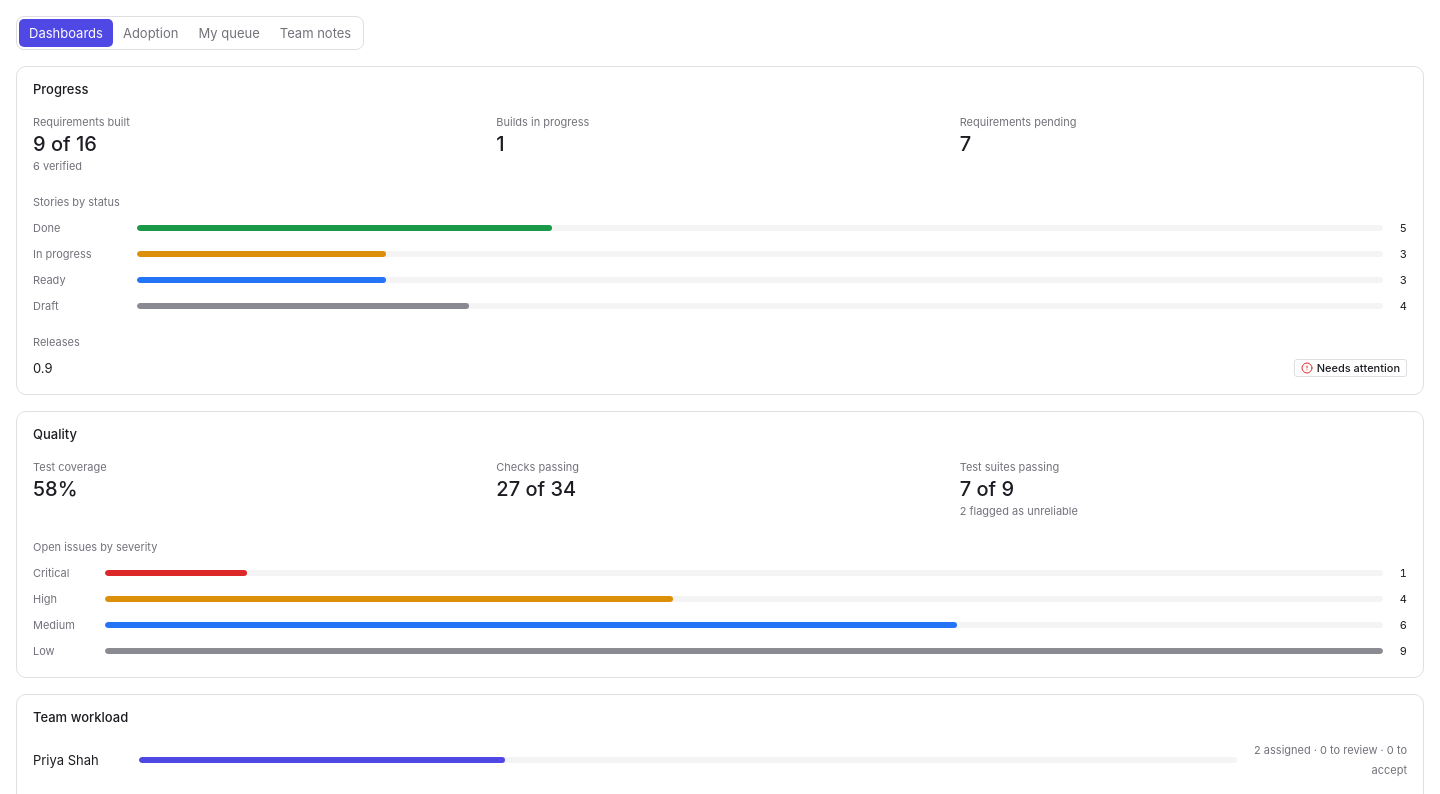
Test: InsightsSection › Team notes tab lists coordination notes
Click the tab "Team notes".
click(316, 33)  # box [270,19,361,47]
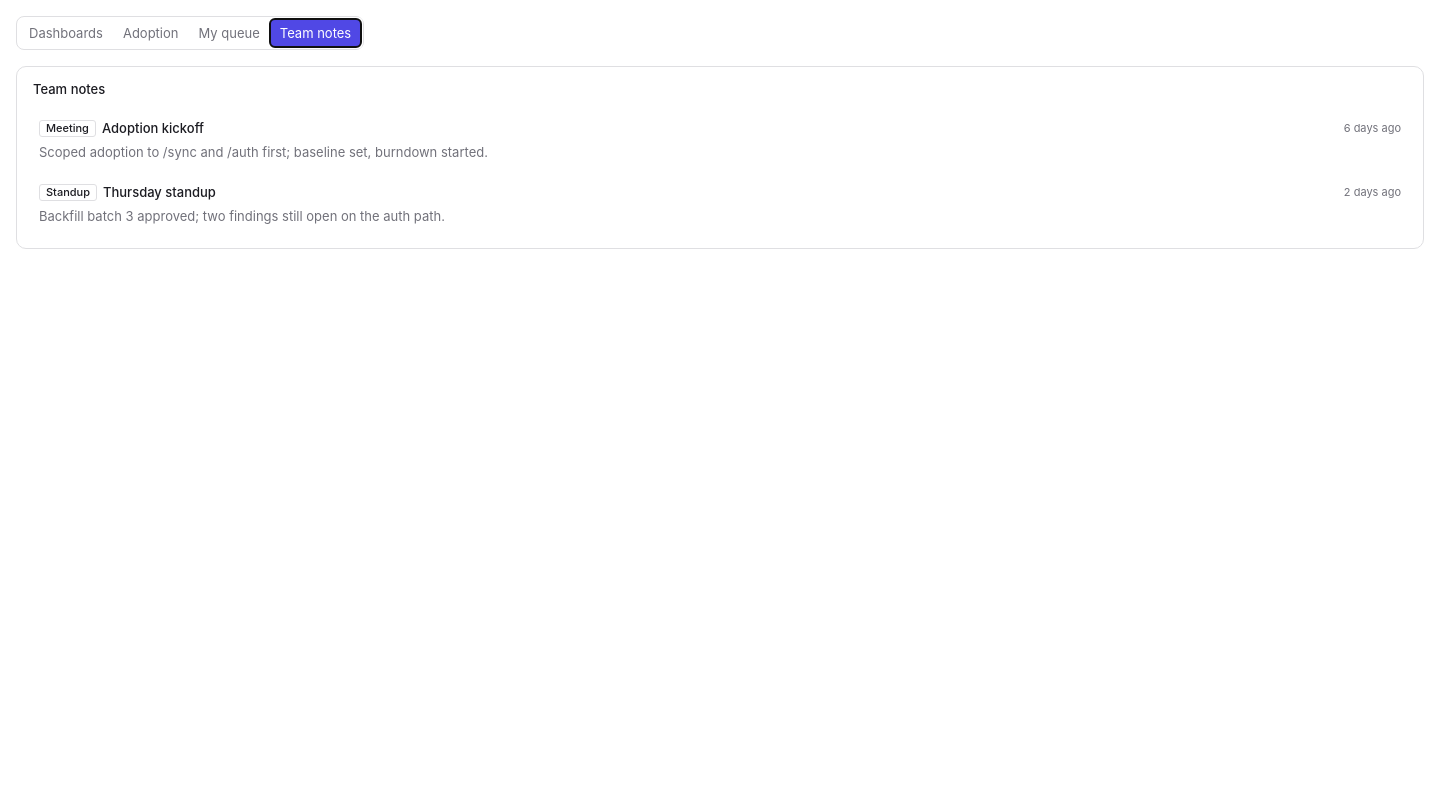
Expected: the text "Adoption kickoff" is shown, [102,118,204,138]
Expected: the text "Meeting" is shown, [39,120,96,136]
